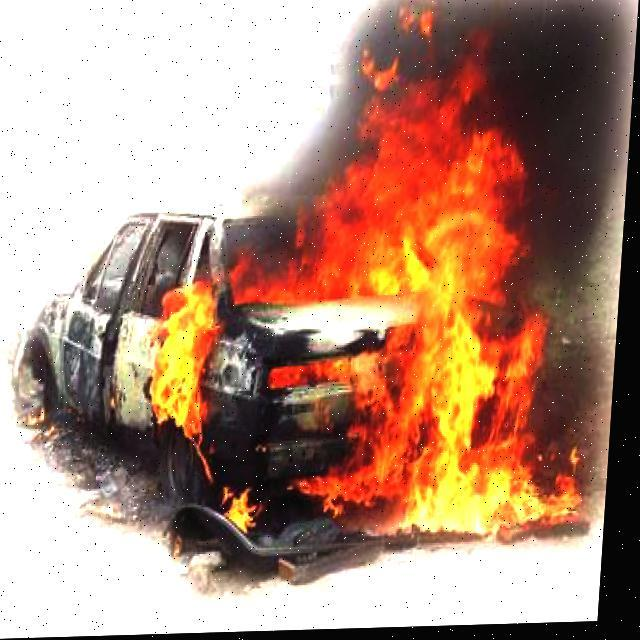Fire: (142, 20, 606, 557)
